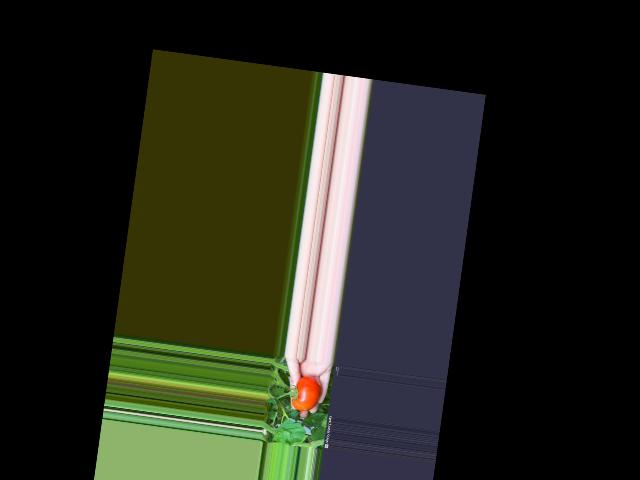tomato: (291, 373, 322, 412)
